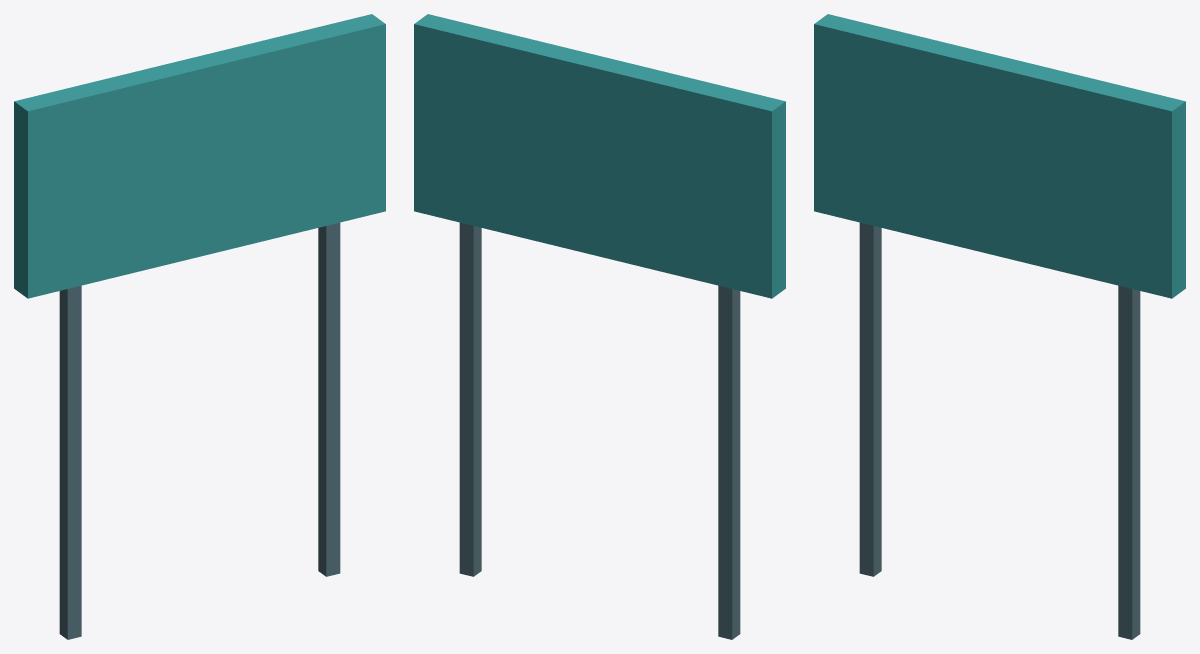
File: TK_ZoneBoard.fbx
The picture shows the model from 3 angles, left to right: view 1: azimuth 30°, elevation 25°; view 2: azimuth 150°, elevation 25°; view 3: azimuth 330°, elevation 25°; orthographic projection.
Parts seen in each view (by area): view 1: BoardFace, BoardPost.001, BoardPost; view 2: BoardFace, BoardPost.001, BoardPost; view 3: BoardFace, BoardPost, BoardPost.001.
Boxes of the visible parts, left/top/right/bottom form: BoardFace: left=14, top=14, right=385, bottom=298; BoardPost.001: left=318, top=222, right=340, bottom=576; BoardPost: left=59, top=285, right=81, bottom=639; BoardFace: left=414, top=14, right=785, bottom=298; BoardPost.001: left=459, top=222, right=481, bottom=576; BoardPost: left=718, top=285, right=740, bottom=639; BoardFace: left=814, top=14, right=1185, bottom=298; BoardPost: left=859, top=222, right=881, bottom=576; BoardPost.001: left=1118, top=285, right=1140, bottom=639.
Bounding box in the file's own units: 1.8 × 2.6 × 0.12.
